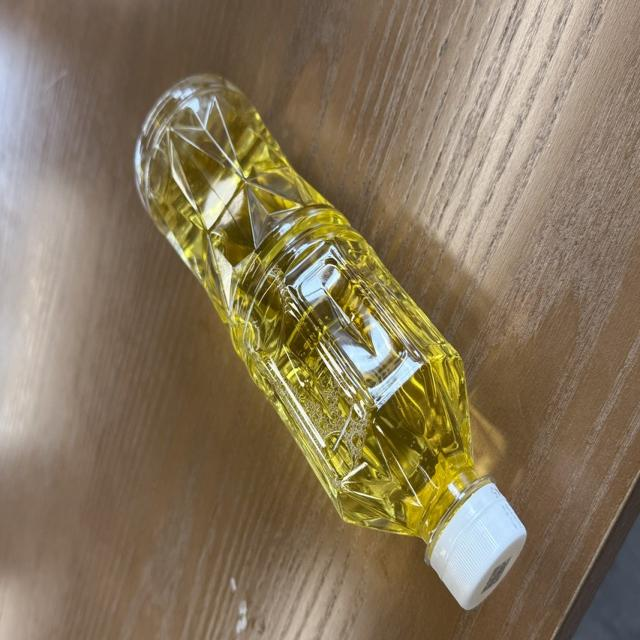high: (135, 75, 526, 608)
